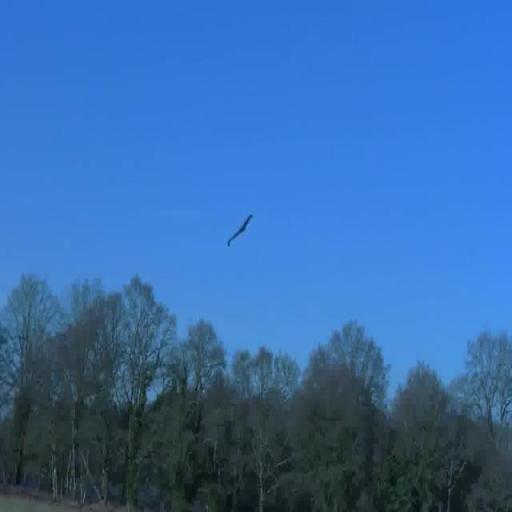uav: (224, 204, 256, 258)
